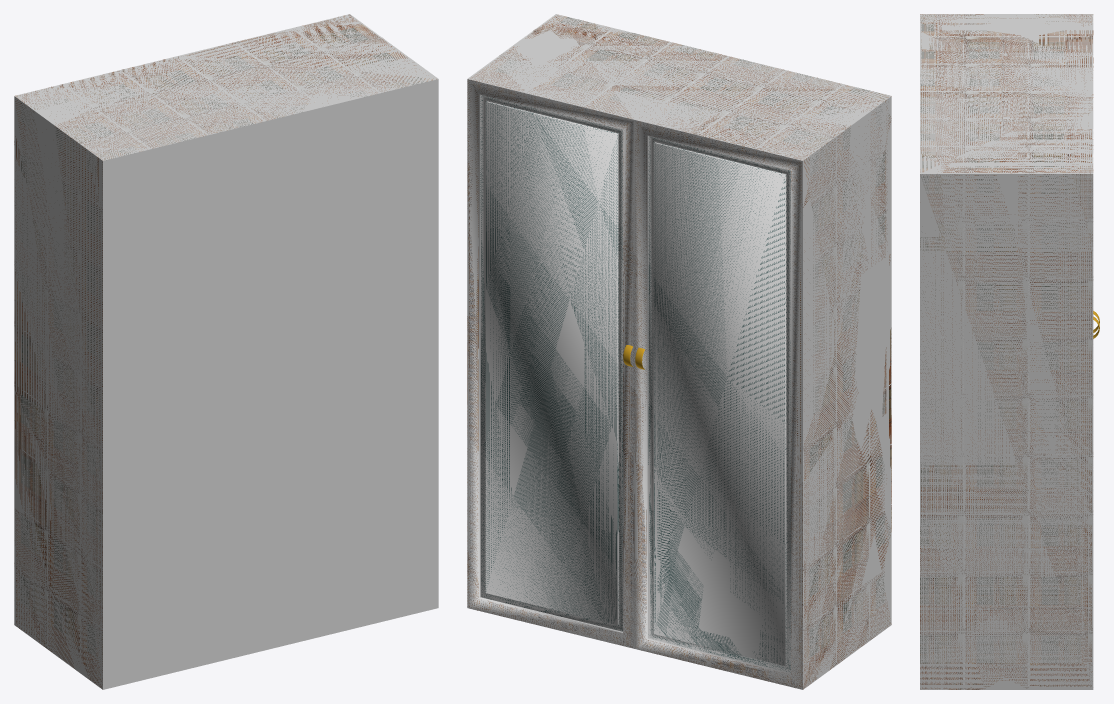
The picture shows the model from 3 angles, left to right: view 1: azimuth 30°, elevation 25°; view 2: azimuth 150°, elevation 25°; view 3: azimuth 270°, elevation 25°; orthographic projection. The views are drawn at different scales.
Parts seen in each view (by area): view 1: mesh4_mesh4-geometry; view 2: mesh4_mesh4-geometry; view 3: mesh4_mesh4-geometry.
Boxes of the visible parts, box(x1,y1,x2,y2) form: mesh4_mesh4-geometry: box(14, 14, 438, 689); mesh4_mesh4-geometry: box(467, 14, 891, 689); mesh4_mesh4-geometry: box(920, 14, 1093, 689).
Size of the model in its own units: 0.5351 by 0.8055 by 0.2545.
